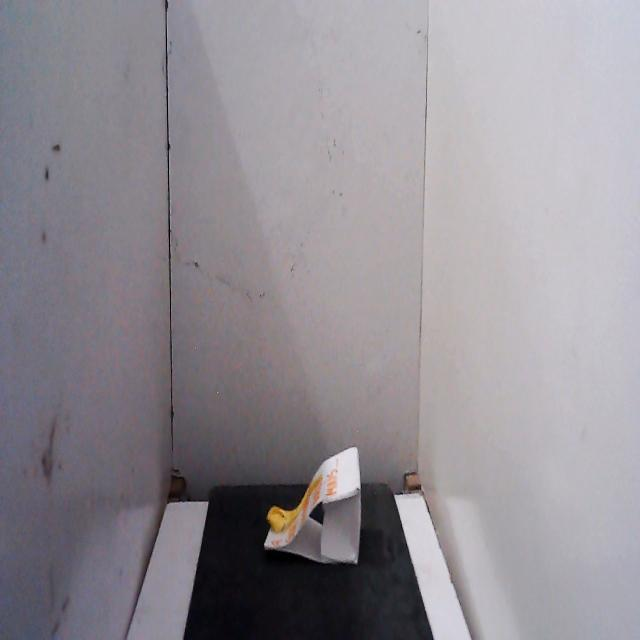papel: (261, 442, 367, 582)
